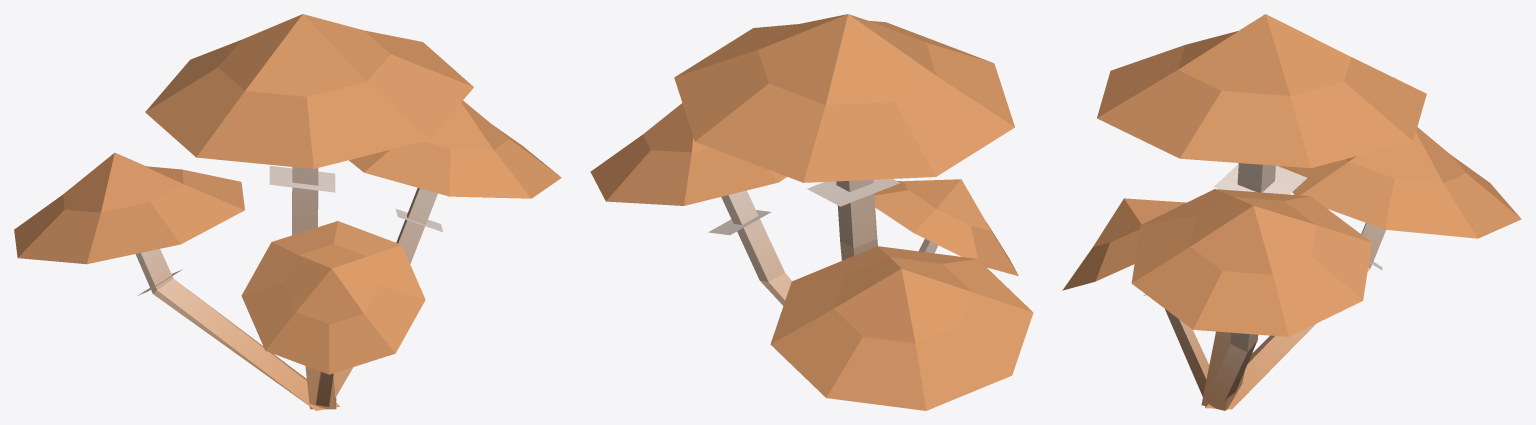
File: Mushroom_i_05.fbx
3 renders of one model, left to right at view 1: azimuth 30°, elevation 25°; view 2: azimuth 150°, elevation 25°; view 3: azimuth 270°, elevation 25°, orthographic. The views are drawn at different scales.
Parts seen in each view (by area): view 1: Mushroom_i_05; view 2: Mushroom_i_05; view 3: Mushroom_i_05.
Part boxes in pixels (x1,y1,x2,y2): Mushroom_i_05: (14,14,561,410); Mushroom_i_05: (590,14,1033,410); Mushroom_i_05: (1062,14,1521,410).
Bounding box in the file's own units: 40.58 × 32.11 × 34.3.
